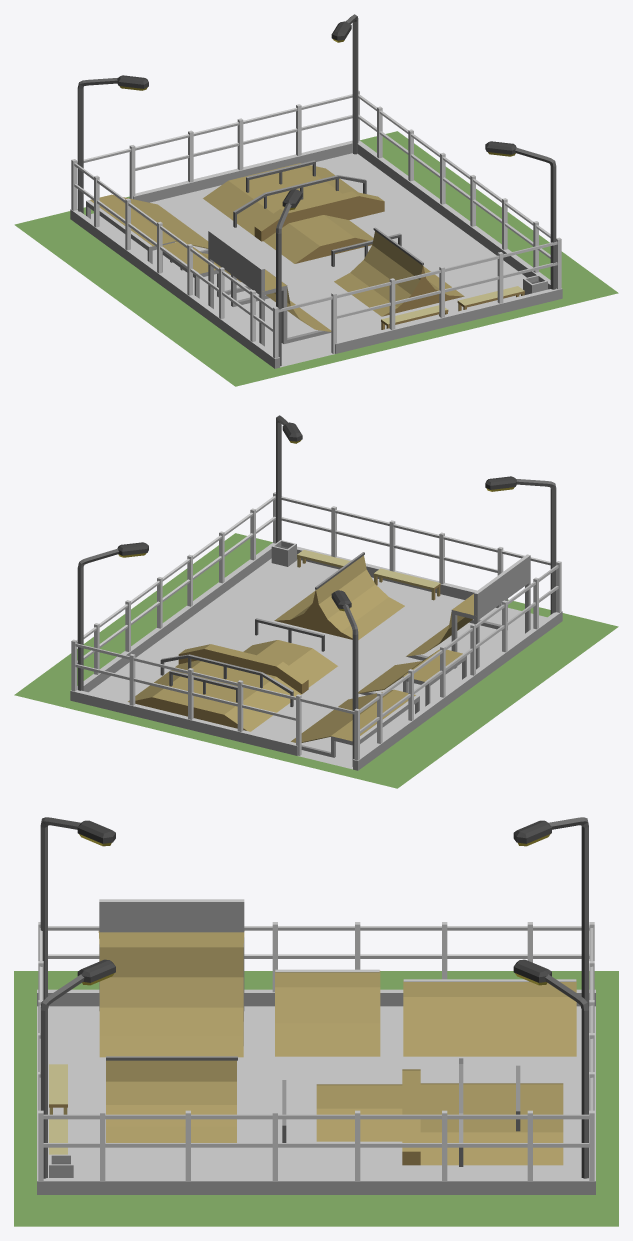
File: landscape_entertainment_001.glb
3 views of the same model, one above another, from view 1: azimuth 30°, elevation 25°; view 2: azimuth 150°, elevation 25°; view 3: azimuth 270°, elevation 25° (orthographic). The views are drawn at different scales.
Parts seen in each view (by area): view 1: landscape_entertainment_001; view 2: landscape_entertainment_001; view 3: landscape_entertainment_001.
Boxes of the visible parts, box(x1,y1,x2,y2) form: landscape_entertainment_001: box(14, 14, 618, 386); landscape_entertainment_001: box(14, 415, 618, 788); landscape_entertainment_001: box(14, 817, 618, 1226).
Size of the model in its own units: 16 by 6.16 by 16.
Materials: 1 (1 with a texture image).
